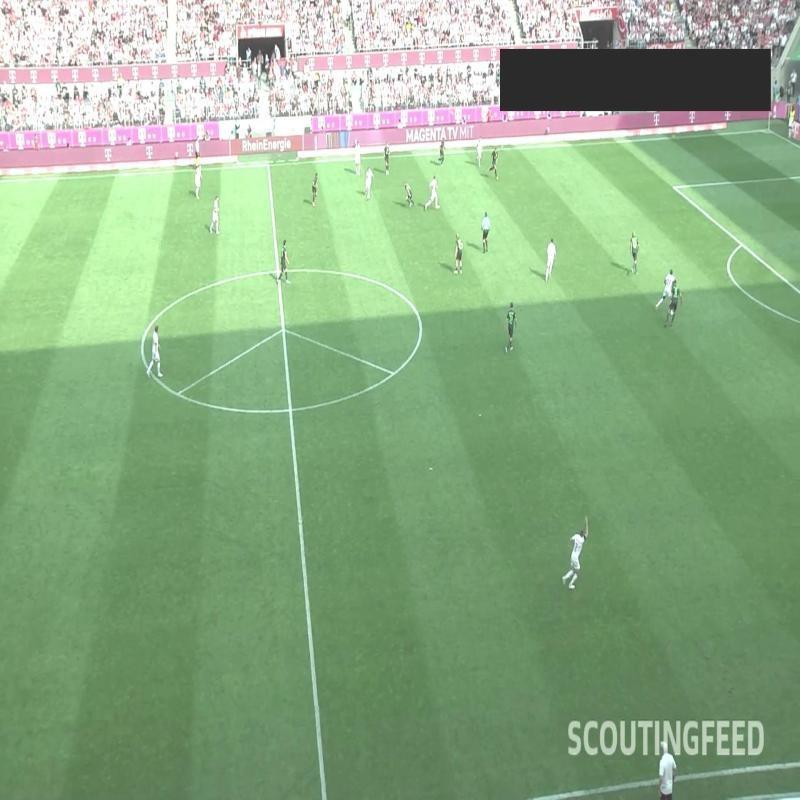1: (761, 123, 776, 138)
10: (734, 238, 748, 252)
13: (262, 158, 276, 172)
14: (272, 266, 286, 280)
15: (282, 402, 296, 416)
9: (669, 180, 683, 194)
c: (406, 309, 430, 324), (134, 338, 148, 351)
